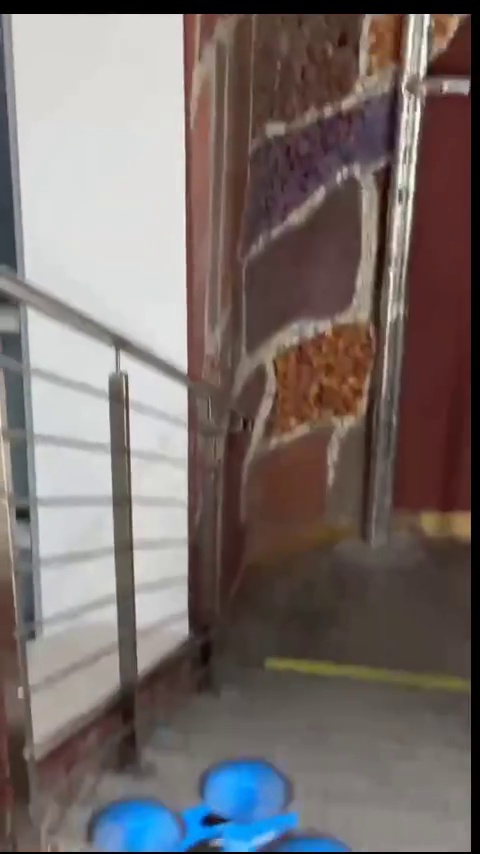drone: (95, 761, 351, 851)
